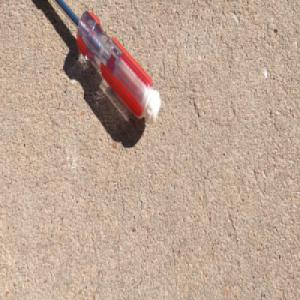Screwdriver: (48, 0, 163, 126)
